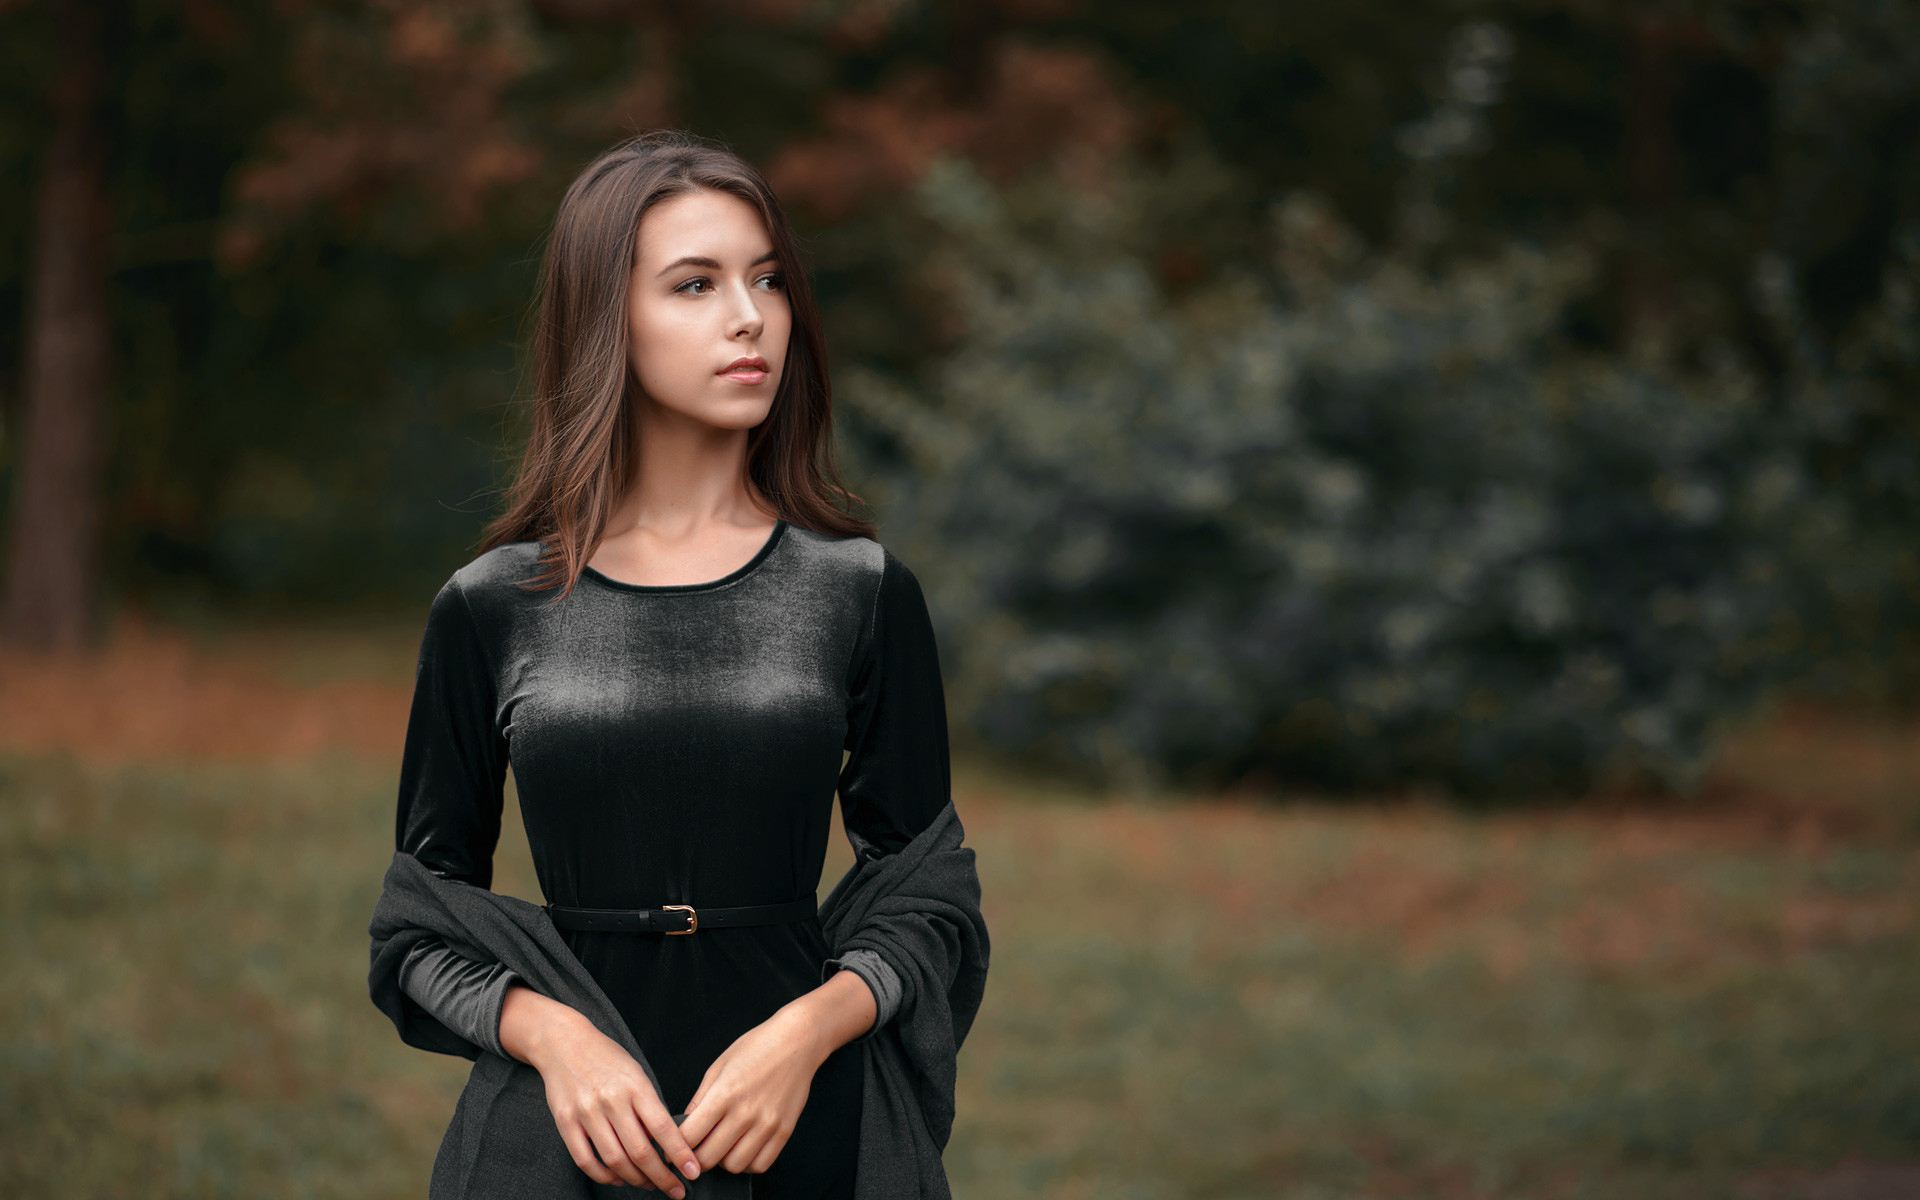person: (419, 141, 979, 1058)
